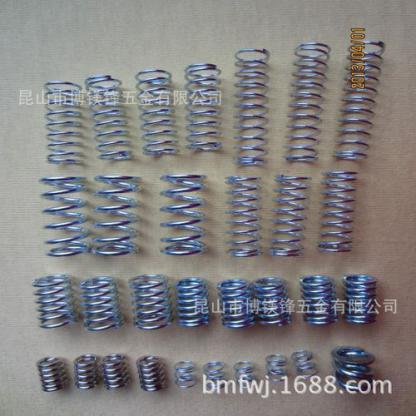FOD: (334, 38, 388, 163), (282, 40, 333, 165), (156, 168, 209, 260), (84, 73, 135, 166), (232, 46, 270, 169), (37, 170, 88, 260), (90, 169, 140, 260), (134, 66, 180, 160), (316, 168, 362, 255), (269, 170, 314, 258), (183, 60, 225, 154), (220, 172, 264, 261), (42, 78, 82, 168), (28, 268, 76, 334), (128, 270, 175, 336), (328, 341, 378, 396), (78, 274, 123, 334), (340, 268, 379, 328), (253, 274, 294, 329), (299, 270, 338, 327), (175, 274, 212, 331), (217, 277, 255, 331), (135, 352, 170, 396), (98, 350, 133, 393), (34, 354, 70, 395), (288, 346, 320, 386), (170, 354, 199, 396), (73, 352, 102, 393), (232, 357, 260, 391), (264, 350, 288, 385), (201, 359, 226, 386)
